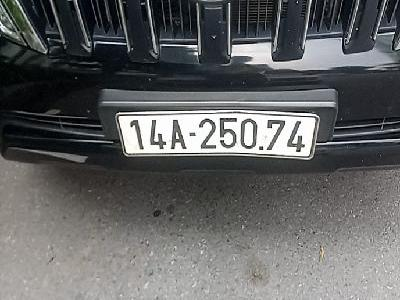number: (117, 111, 317, 158)
